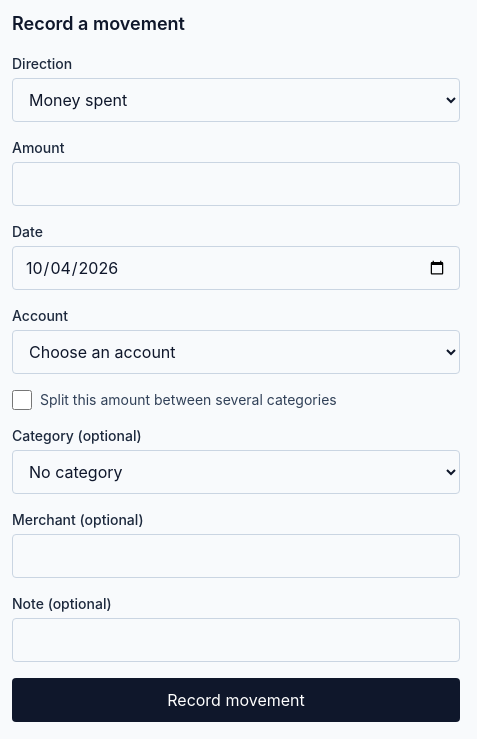
Scenario: TransactionForm › offers both sides of a transfer and asks for no merchant
This screenshot has width=477, height=739.
Select "Transfer between accounts" in the dropdown labelled "Direction": (236, 100) [12,78,460,122]
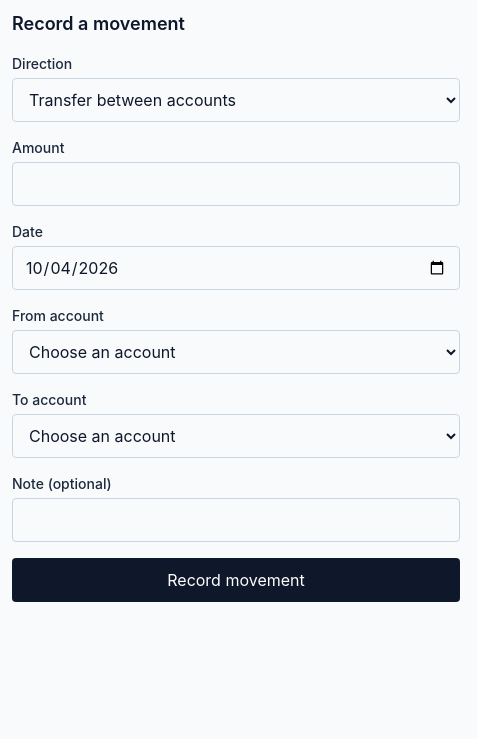
Check: the dropdown labelled "From account" is shown, box [12,330,460,374]
Check: the dropdown labelled "To account" is shown, box [12,414,460,458]
Check: the label labelled "Merchant (optional)" is gone
